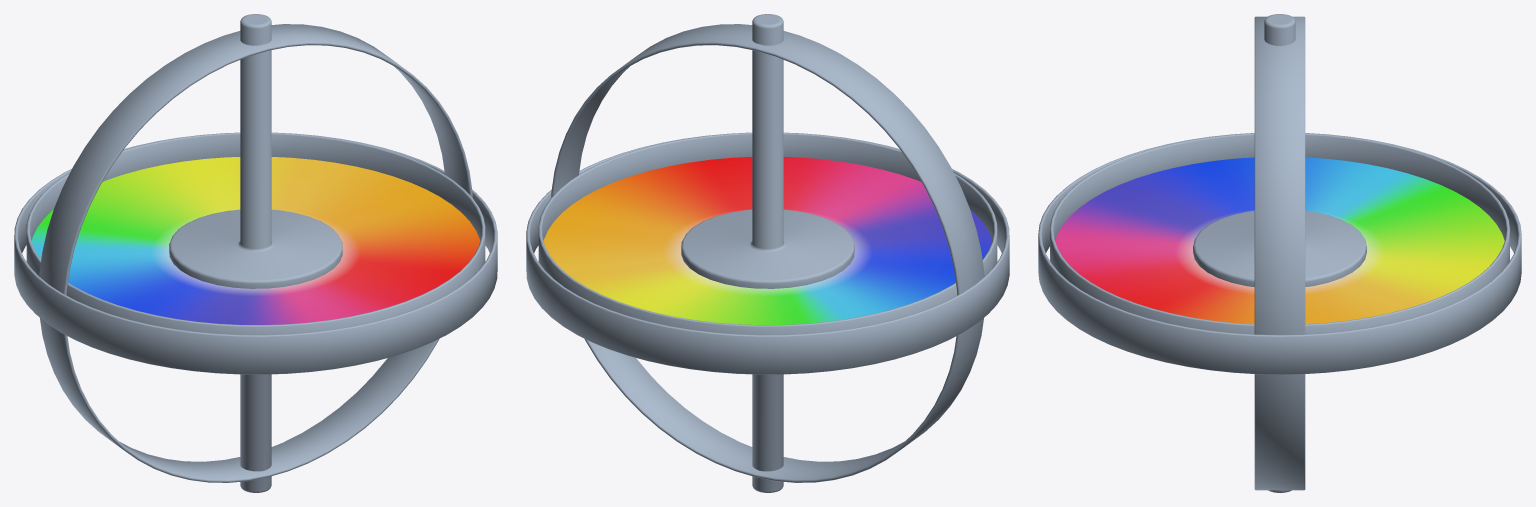
File: motn_gyro.gltf
3 views of the same model, side by side, from view 1: azimuth 30°, elevation 25°; view 2: azimuth 150°, elevation 25°; view 3: azimuth 270°, elevation 25° (orthographic).
Parts seen in each view (by area): view 1: gyroscope; view 2: gyroscope; view 3: gyroscope.
Boxes of the visible parts, x1,y1,x2,y2 form: gyroscope: (14,14,497,492); gyroscope: (526,14,1009,492); gyroscope: (1038,14,1521,492).
Size of the model in its own units: 1.75 by 1.86 by 1.75.
2 materials, 1 textured.
